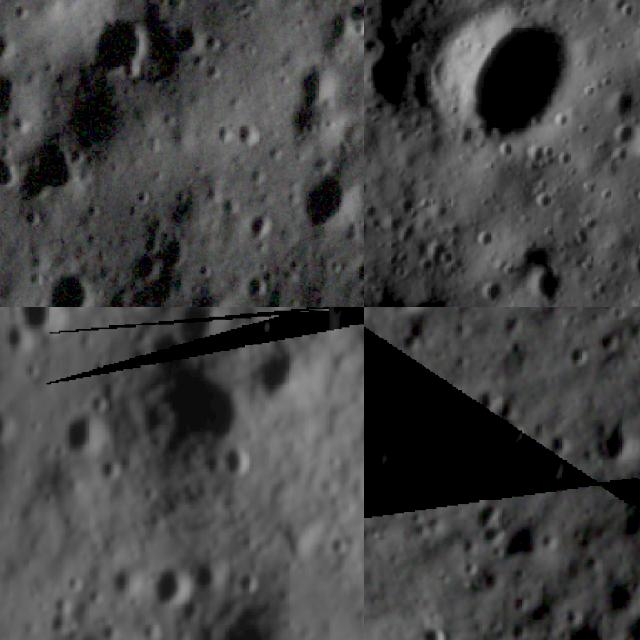crater: (397, 0, 617, 186), (144, 351, 255, 452), (81, 0, 168, 91), (283, 159, 364, 242), (171, 594, 310, 640), (248, 326, 314, 408), (516, 247, 588, 307), (466, 490, 518, 560), (39, 260, 105, 307), (56, 406, 112, 461), (584, 420, 640, 475), (142, 554, 191, 612), (591, 569, 640, 627), (180, 546, 230, 600), (15, 307, 75, 349), (167, 307, 224, 351), (521, 444, 576, 487), (167, 16, 212, 63), (213, 438, 258, 484), (471, 269, 522, 307), (487, 413, 532, 455), (544, 616, 622, 640), (103, 558, 142, 604), (603, 107, 640, 155), (364, 324, 386, 383), (469, 221, 503, 255), (0, 318, 28, 358), (0, 400, 23, 446), (342, 0, 364, 48), (92, 455, 124, 486), (364, 388, 388, 427), (421, 613, 452, 640), (410, 295, 477, 307), (626, 123, 640, 177), (368, 307, 428, 318)
